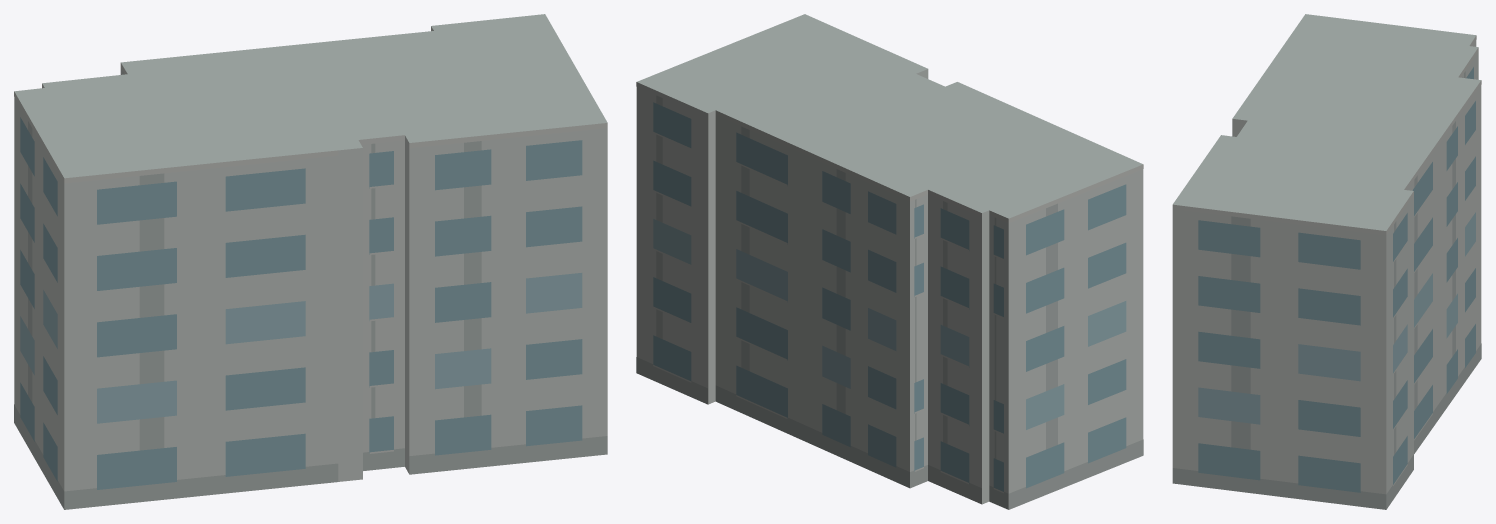
The model's file is survey-upis-32766885.glb.
3 views of the same model, side by side, from view 1: azimuth 30°, elevation 25°; view 2: azimuth 150°, elevation 25°; view 3: azimuth 270°, elevation 25° (orthographic). The views are drawn at different scales.
Visible parts, largest first — view 1: survey-upis-32766885.tmp; view 2: survey-upis-32766885.tmp; view 3: survey-upis-32766885.tmp.
Boxes of the visible parts, x1,y1,x2,y2 form: survey-upis-32766885.tmp: (14,14,607,509); survey-upis-32766885.tmp: (636,14,1143,509); survey-upis-32766885.tmp: (1172,14,1481,509).
Size of the model in its own units: 25.47 by 15.25 by 15.32.
